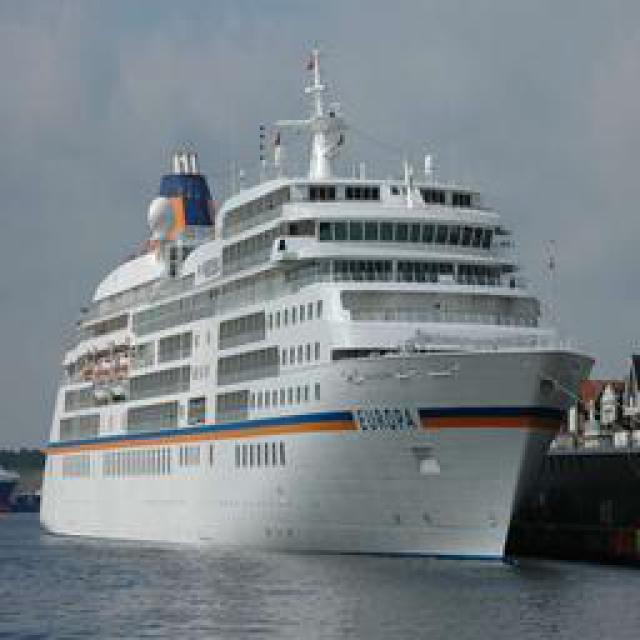Ship: (38, 33, 596, 569)
